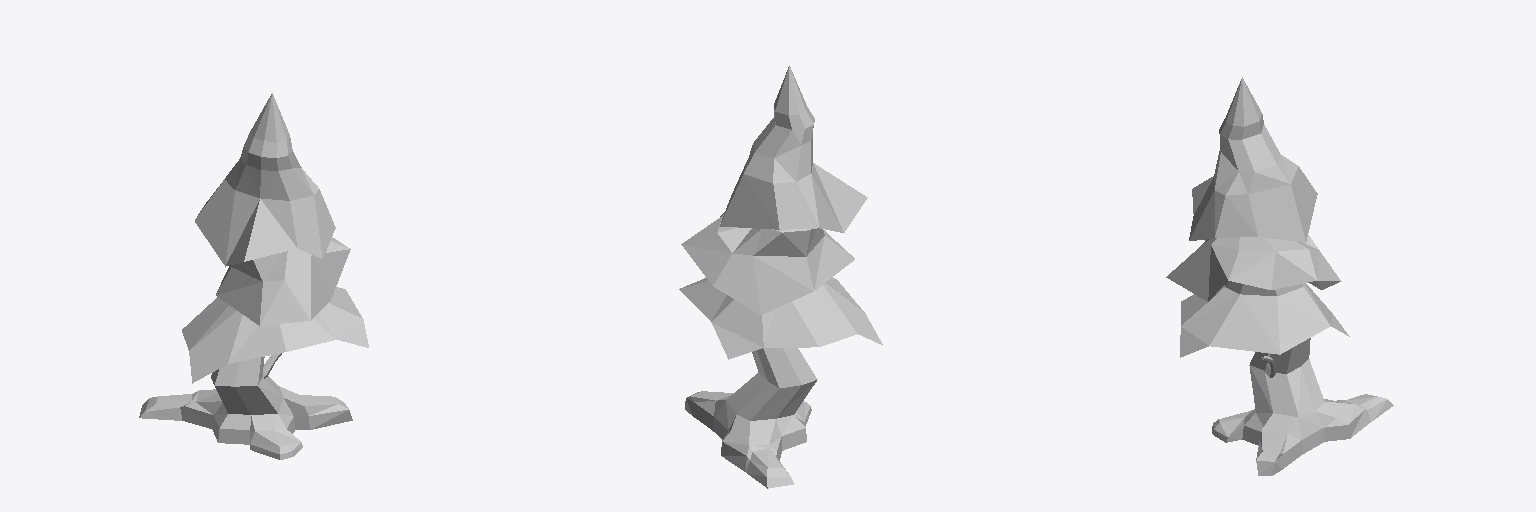
File: Tree_Fat.obj
The picture shows the model from 3 angles: view 1: azimuth 30°, elevation 25°; view 2: azimuth 150°, elevation 25°; view 3: azimuth 270°, elevation 25°; orthographic projection.
Parts seen in each view (by area): view 1: default; view 2: default; view 3: default.
Boxes of the visible parts, box(x1,y1,x2,y2) form: default: box(139, 93, 368, 459); default: box(679, 65, 882, 488); default: box(1166, 77, 1393, 475).
Size of the model in its own units: 29.72 by 56.37 by 32.77.